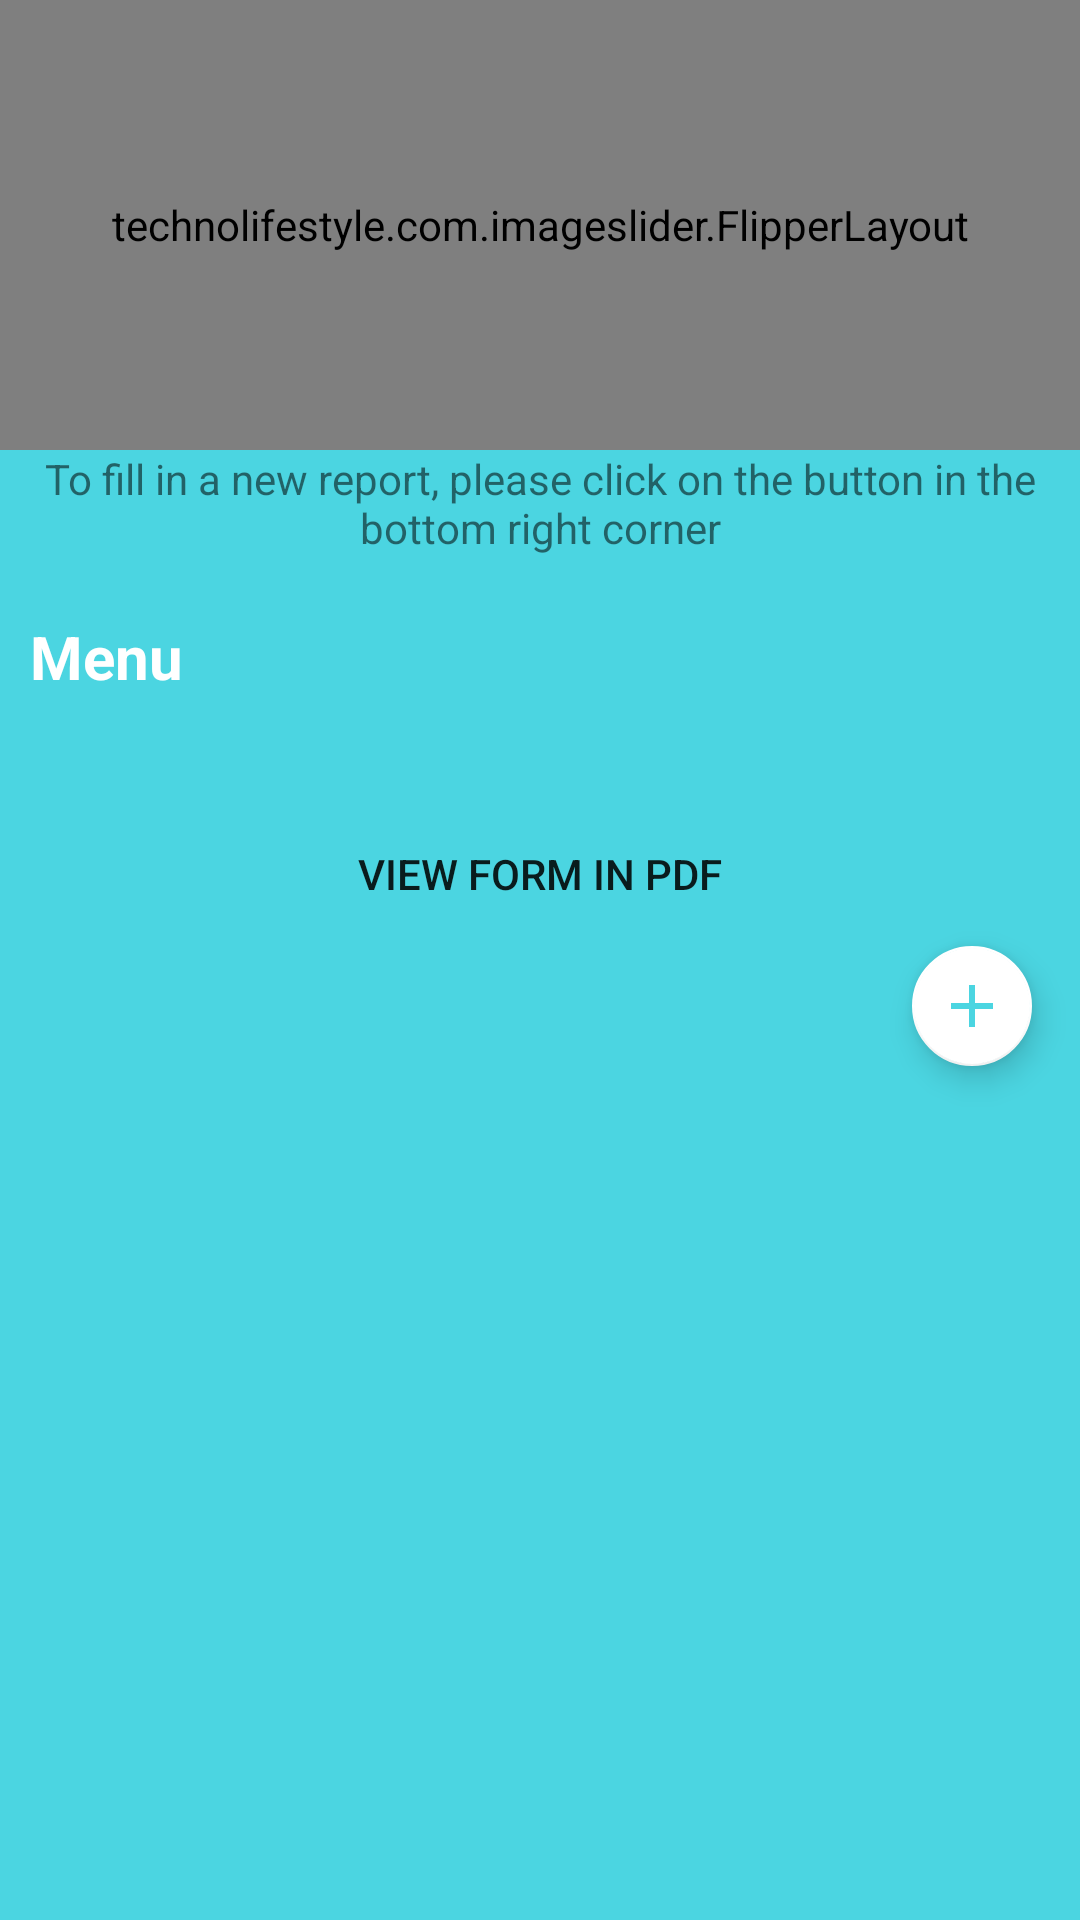

Point at icon controls on the screen. Image size 1080 × 1920, points as point (x, y).
add: point (972, 1006)
